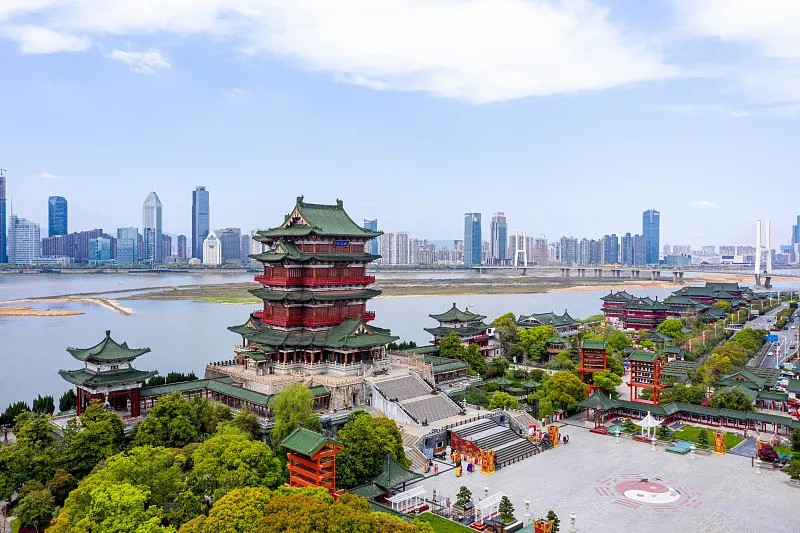Teng: (228, 196, 401, 369)
